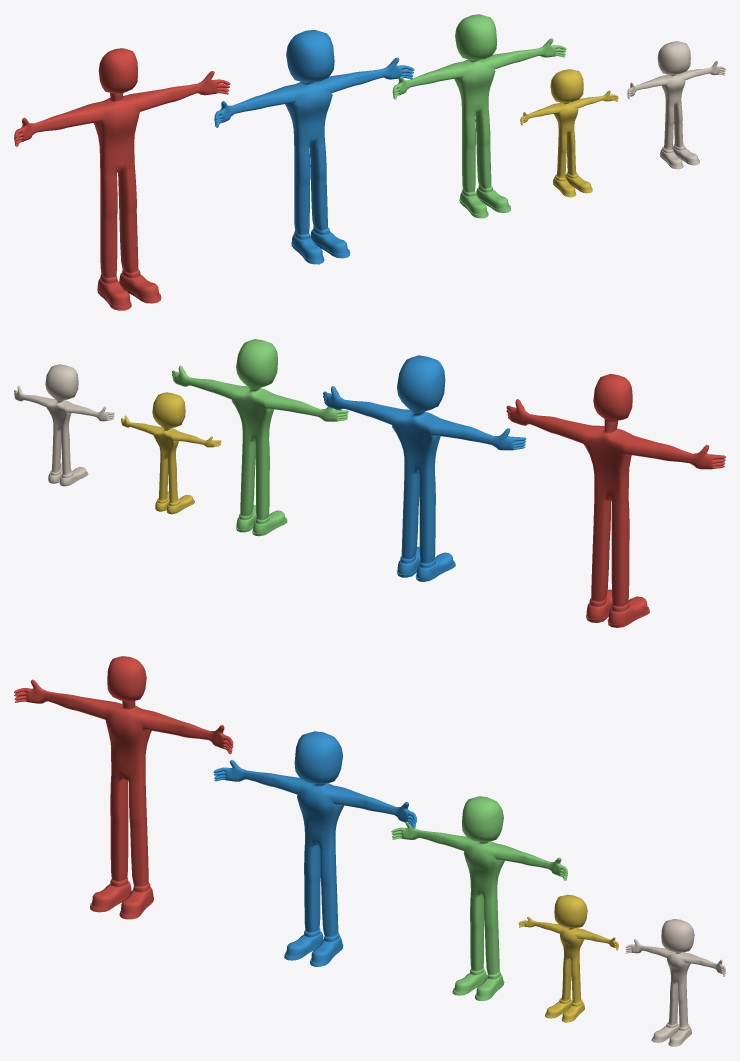
File: stickman_pack.fbx
3 views of the same model, one above another, from view 1: azimuth 30°, elevation 25°; view 2: azimuth 150°, elevation 25°; view 3: azimuth 330°, elevation 25° (orthographic).
Visible parts, largest first — view 1: char1, char, char2, char4, char3; view 2: char1, char, char2, char4, char3; view 3: char1, char, char2, char4, char3.
Part boxes in pixels (x1=…): char1: x1=14, y1=48, x2=230, y2=310; char: x1=214, y1=30, x2=414, y2=264; char2: x1=392, y1=14, x2=566, y2=218; char4: x1=627, y1=41, x2=725, y2=169; char3: x1=520, y1=69, x2=618, y2=197; char1: x1=506, y1=374, x2=725, y2=627; char: x1=323, y1=355, x2=526, y2=581; char2: x1=172, y1=339, x2=348, y2=536; char4: x1=14, y1=364, x2=114, y2=486; char3: x1=121, y1=392, x2=221, y2=514; char1: x1=14, y1=656, x2=233, y2=919; char: x1=213, y1=731, x2=416, y2=966; char2: x1=391, y1=796, x2=567, y2=1000; char4: x1=625, y1=919, x2=725, y2=1046; char3: x1=518, y1=894, x2=618, y2=1022.
Bounding box in the file's own units: 27.04 × 8.88 × 2.16.
